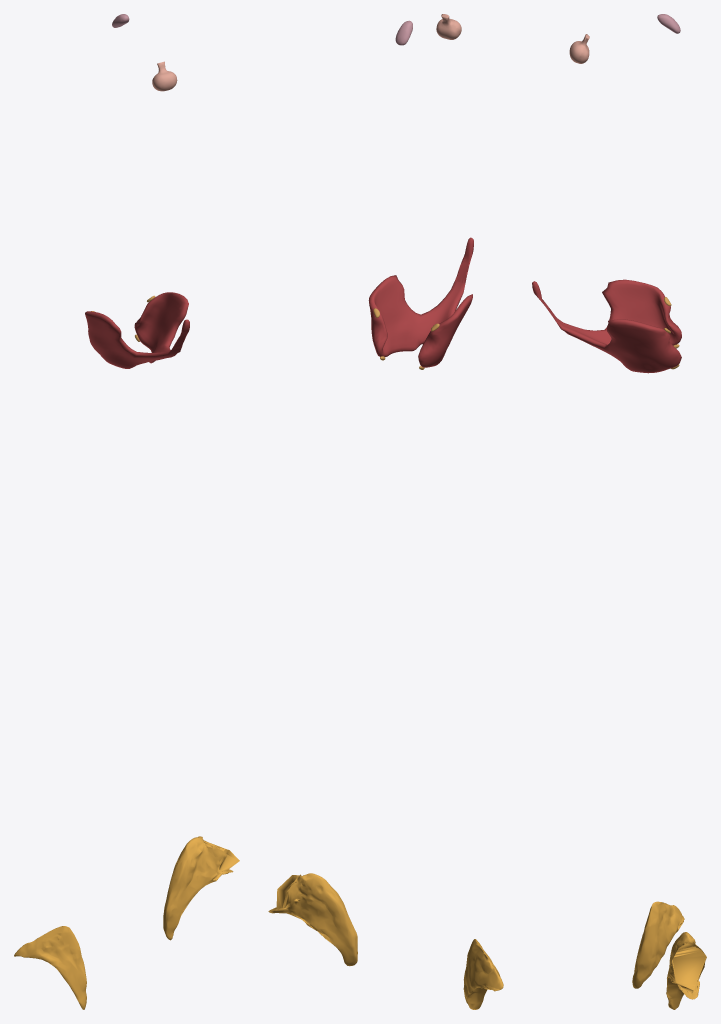
File: female-endocrine.glb
The picture shows the model from 3 angles, left to right: view 1: azimuth 30°, elevation 25°; view 2: azimuth 150°, elevation 25°; view 3: azimuth 270°, elevation 25°; orthographic projection. The views are drawn at different scales.
Visible parts, largest first — view 1: Thyroid_gland, Suprarenal_gland_L, Suprarenal_gland_R; view 2: Thyroid_gland, Suprarenal_gland_L, Suprarenal_gland_R; view 3: Thyroid_gland, Suprarenal_gland_R, Suprarenal_gland_L.
Part boxes in pixels (x1=…): Thyroid_gland: x1=85, y1=292, x2=189, y2=368; Suprarenal_gland_L: x1=163, y1=836, x2=239, y2=940; Suprarenal_gland_R: x1=14, y1=926, x2=86, y2=1009; Thyroid_gland: x1=368, y1=237, x2=473, y2=367; Suprarenal_gland_L: x1=268, y1=873, x2=357, y2=966; Suprarenal_gland_R: x1=463, y1=939, x2=503, y2=1009; Thyroid_gland: x1=532, y1=279, x2=681, y2=373; Suprarenal_gland_R: x1=632, y1=901, x2=684, y2=988; Suprarenal_gland_L: x1=666, y1=932, x2=706, y2=1009.
Size of the model in its own units: 0.1048 by 0.4326 by 0.0685.
